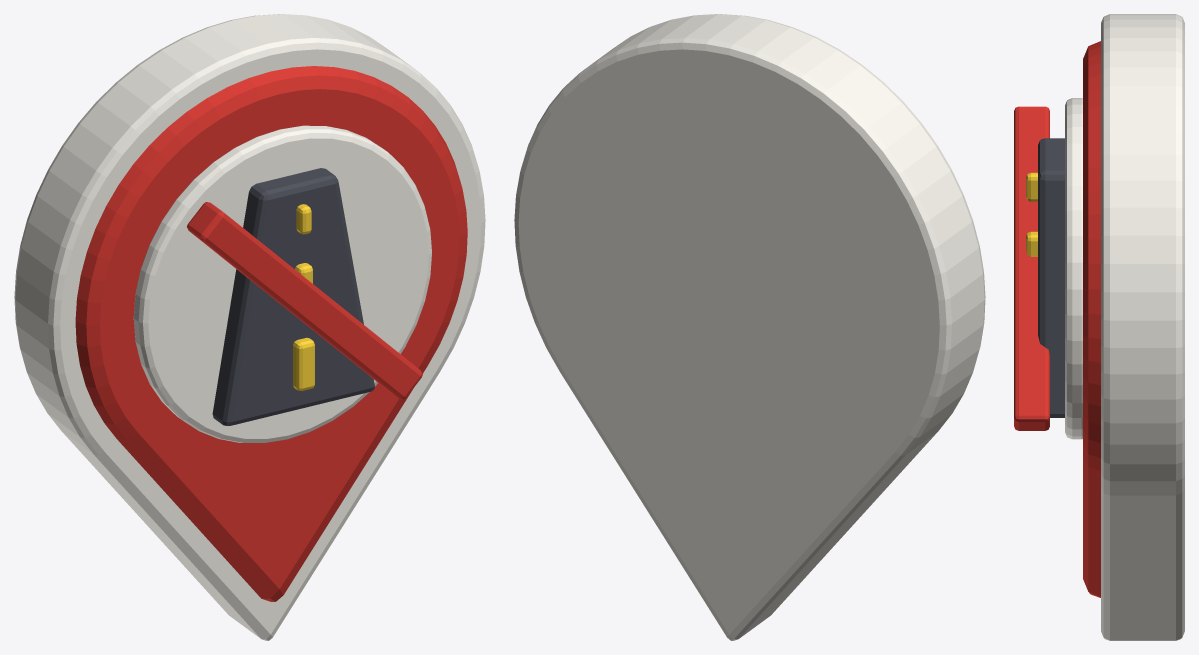
Rendered from badge_road.glb.
3 renders of one model, left to right at view 1: azimuth 30°, elevation 25°; view 2: azimuth 150°, elevation 25°; view 3: azimuth 270°, elevation 25°, orthographic.
Visible parts, largest first — view 1: pin, border, disc, symbol_0_0, symbol_2_0, symbol_1_0; view 2: border; view 3: border, pin, symbol_2_0, symbol_0_0, disc, symbol_1_2, symbol_1_1.
Boxes of the visible parts, x1,y1,x2,y2 form: pin: [75, 66, 467, 601]; border: [14, 14, 485, 640]; disc: [133, 125, 431, 442]; symbol_0_0: [212, 168, 374, 425]; symbol_2_0: [187, 202, 422, 399]; symbol_1_0: [293, 337, 314, 390]; border: [514, 14, 985, 640]; border: [1101, 14, 1184, 640]; pin: [1083, 41, 1100, 597]; symbol_2_0: [1014, 106, 1049, 430]; symbol_0_0: [1038, 138, 1064, 417]; disc: [1065, 98, 1082, 439]; symbol_1_2: [1026, 172, 1037, 201]; symbol_1_1: [1026, 231, 1037, 256].
Bounding box in the file's own units: 0.85 × 1.11 × 0.285.
